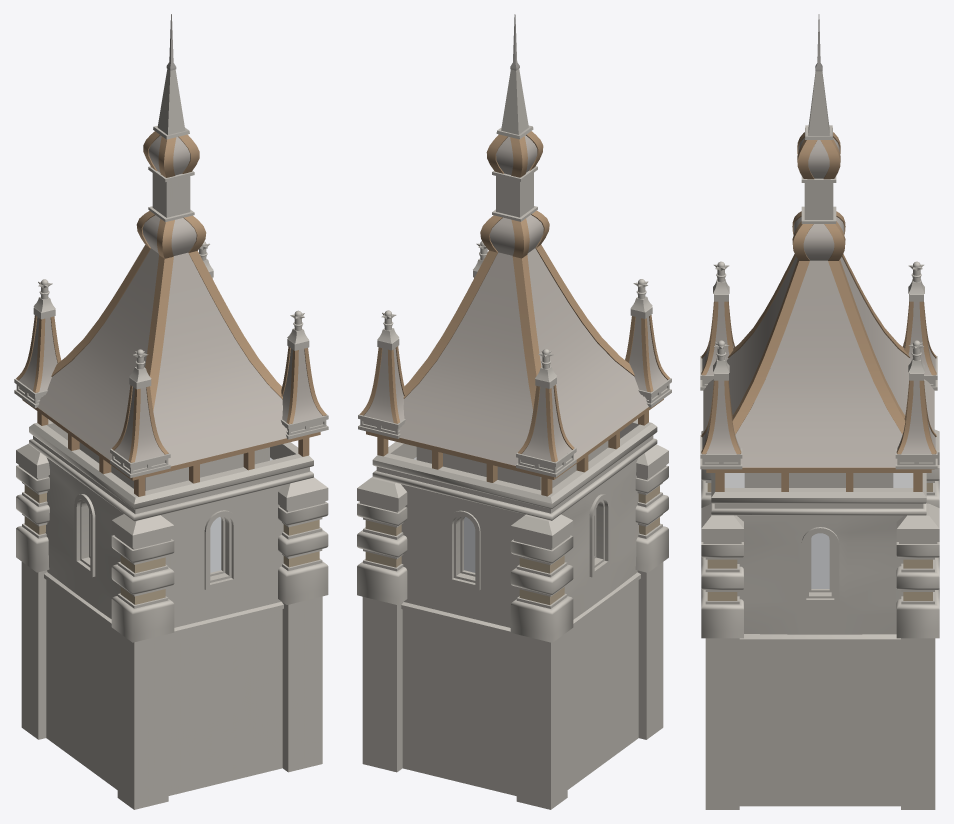
The model's file is kb3d_tower_d.glb.
The picture shows the model from 3 angles, left to right: view 1: azimuth 30°, elevation 25°; view 2: azimuth 150°, elevation 25°; view 3: azimuth 270°, elevation 25°; orthographic projection. The views are drawn at different scales.
Visible parts, largest first — view 1: EXPORT_kb3d_tower_d; view 2: EXPORT_kb3d_tower_d; view 3: EXPORT_kb3d_tower_d.
Boxes of the visible parts, x1,y1,x2,y2 form: EXPORT_kb3d_tower_d: [14, 14, 328, 809]; EXPORT_kb3d_tower_d: [357, 14, 671, 809]; EXPORT_kb3d_tower_d: [700, 14, 939, 809].
Size of the model in its own units: 8.43 by 29.76 by 8.62.
